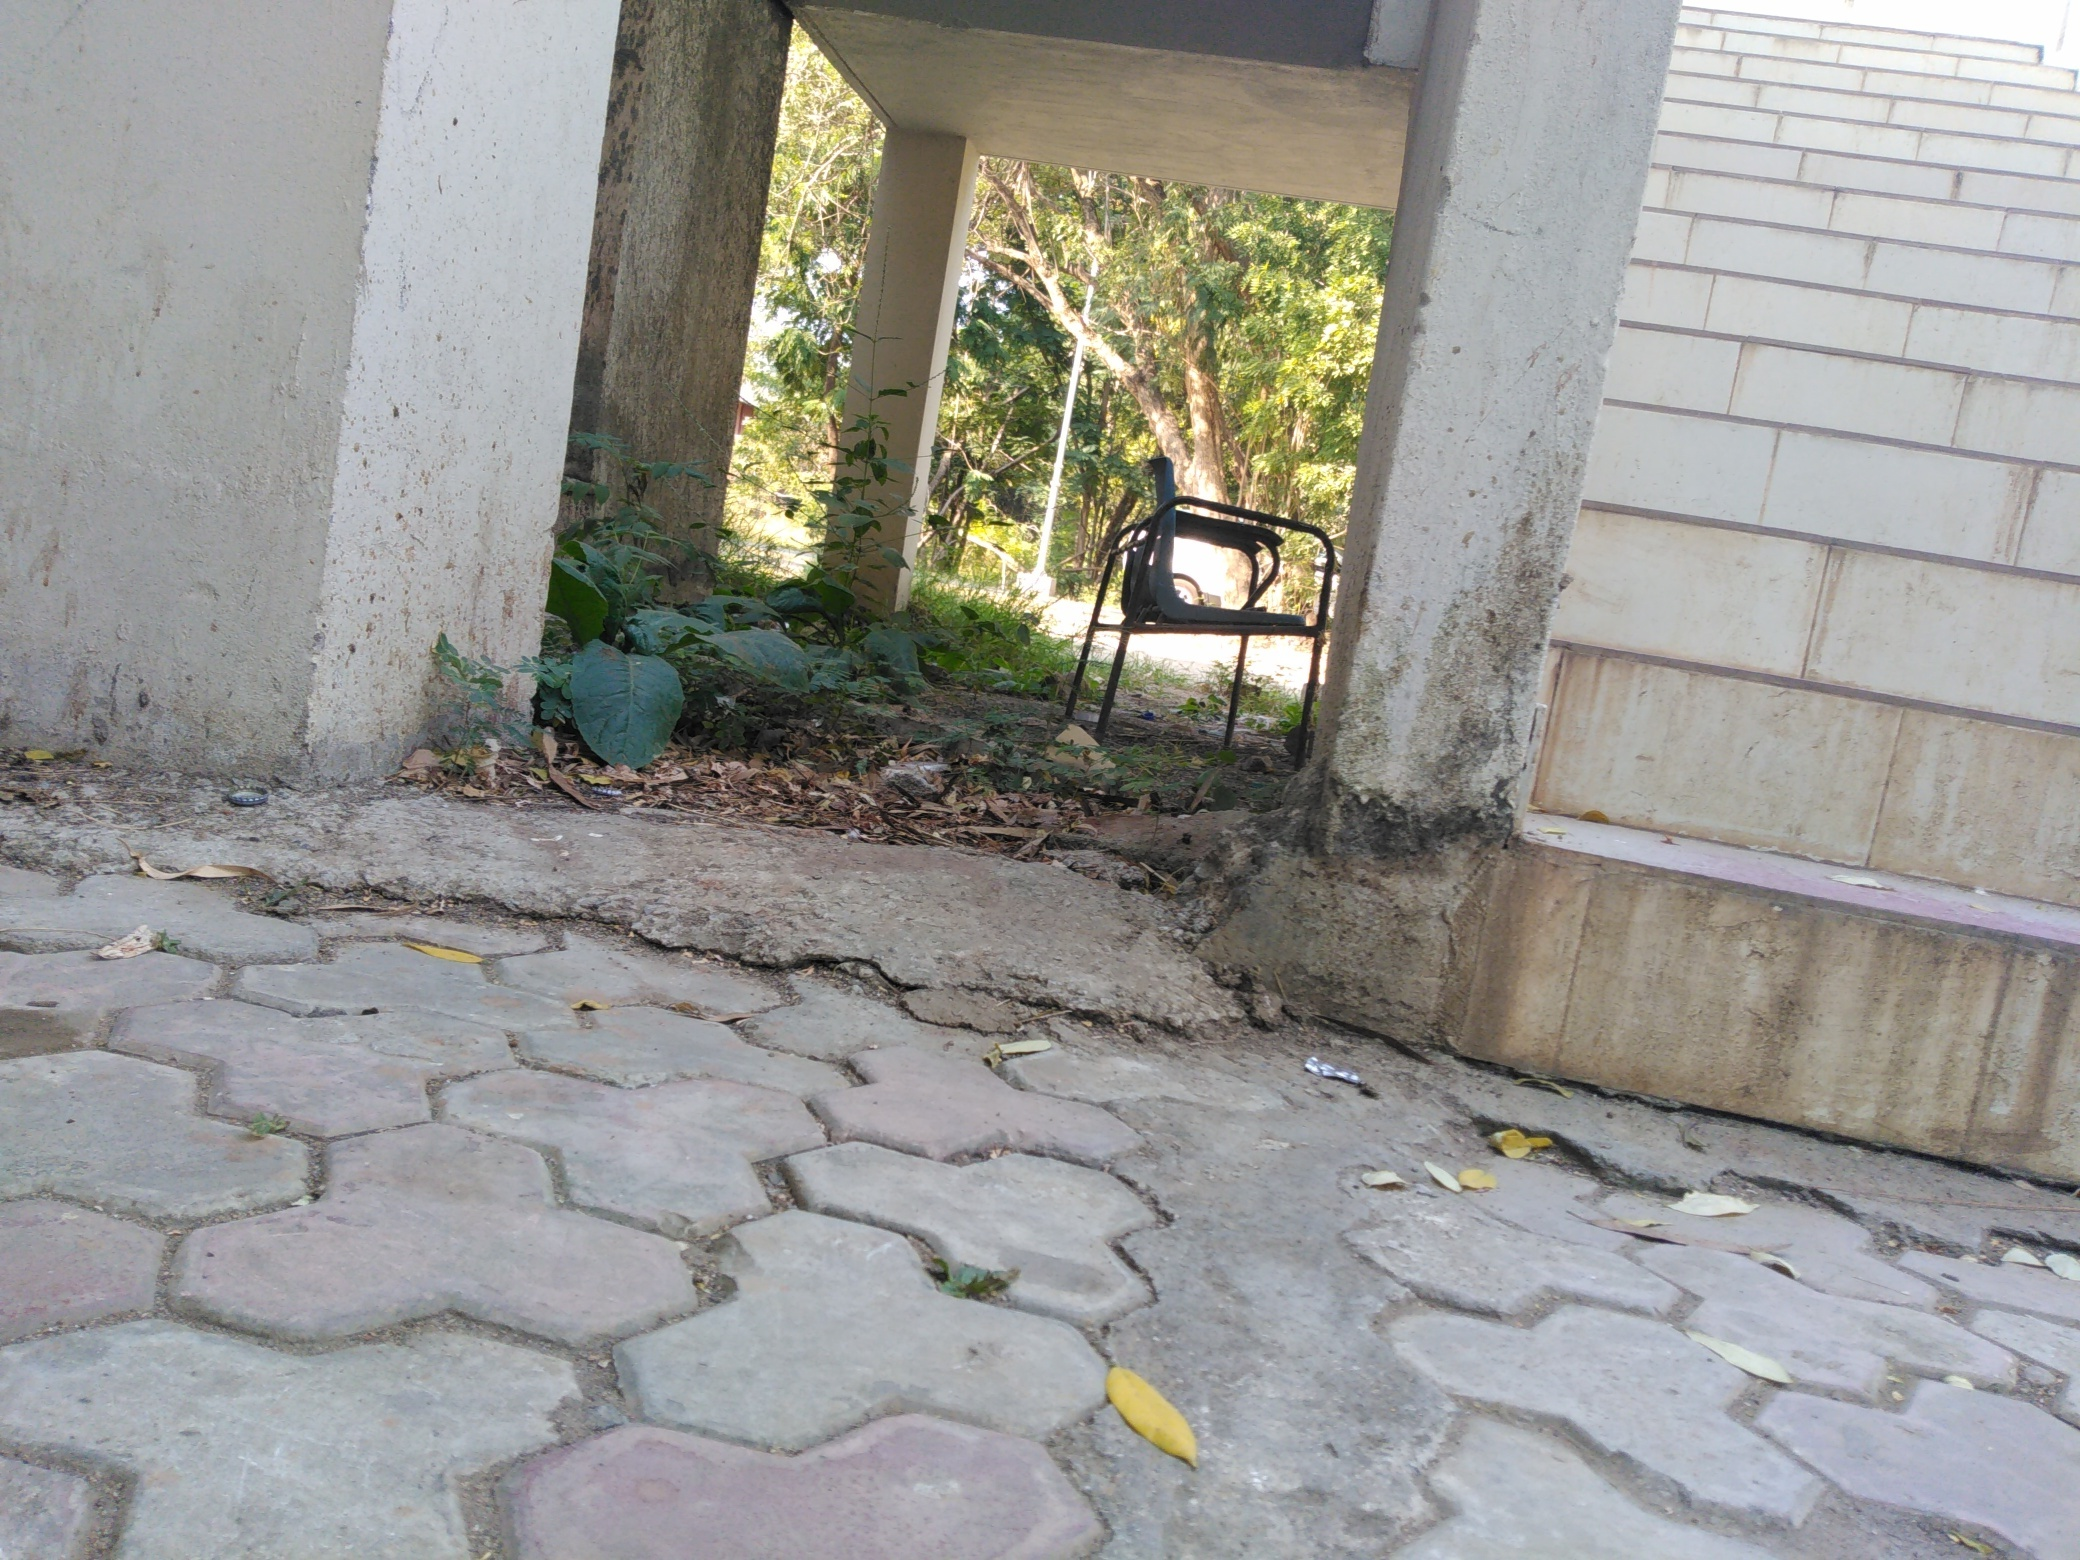stairs_up: (1522, 25, 2080, 1190)
